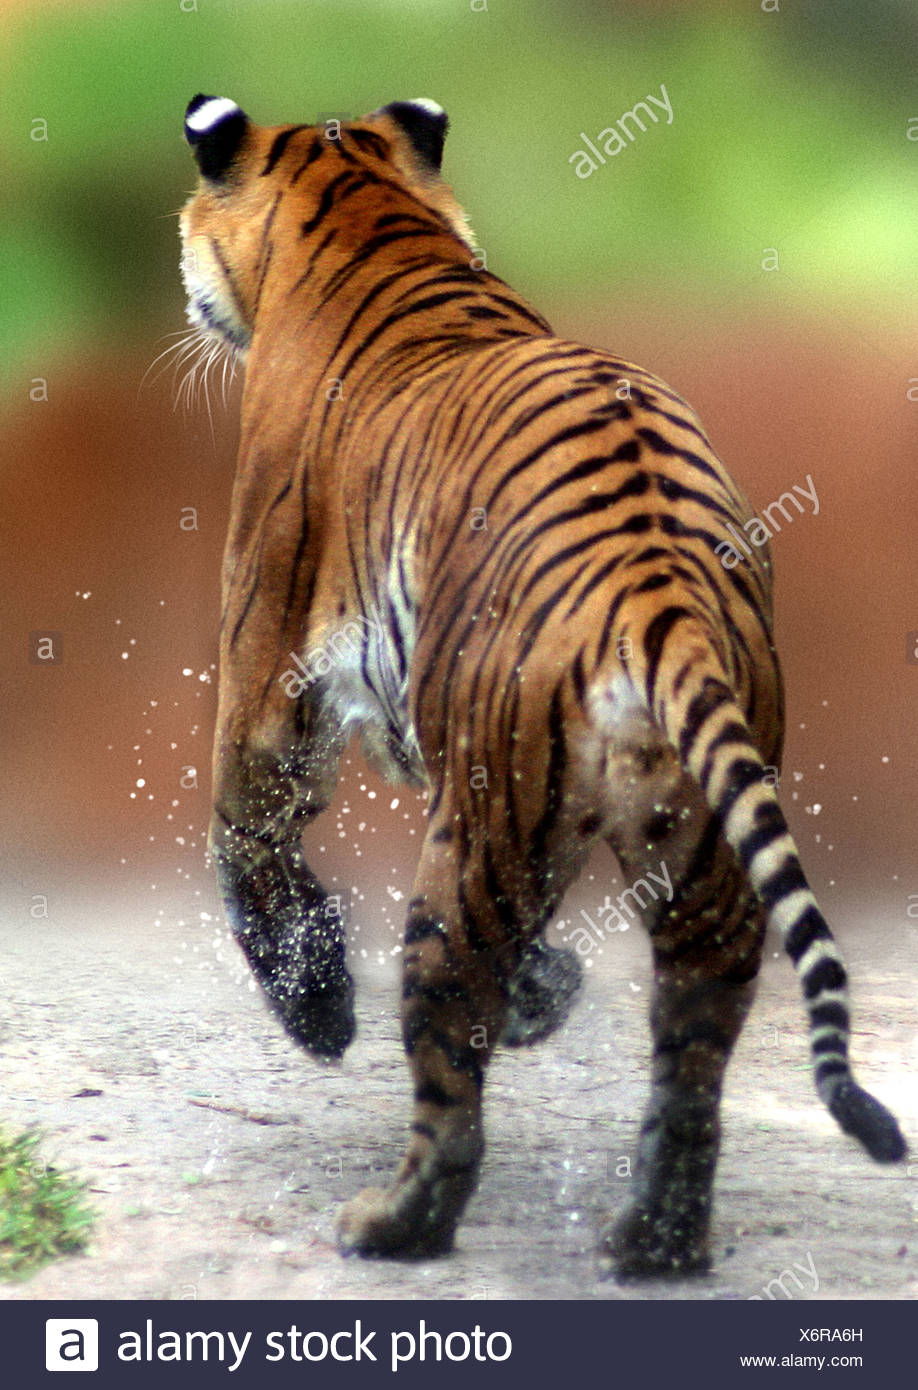tiger: (172, 90, 913, 1275)
